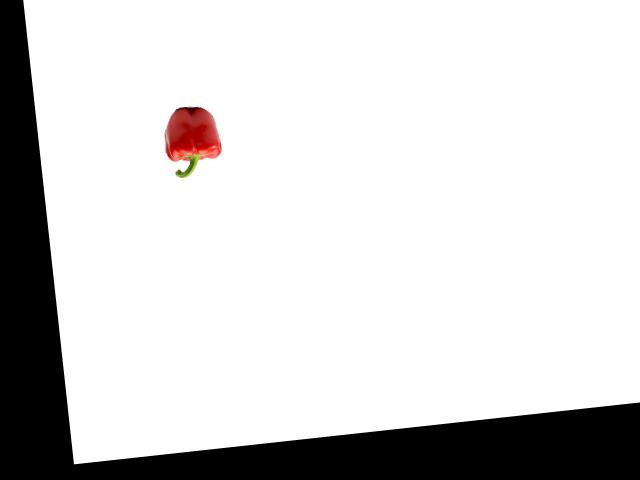bell_pepper: (156, 100, 228, 181)
